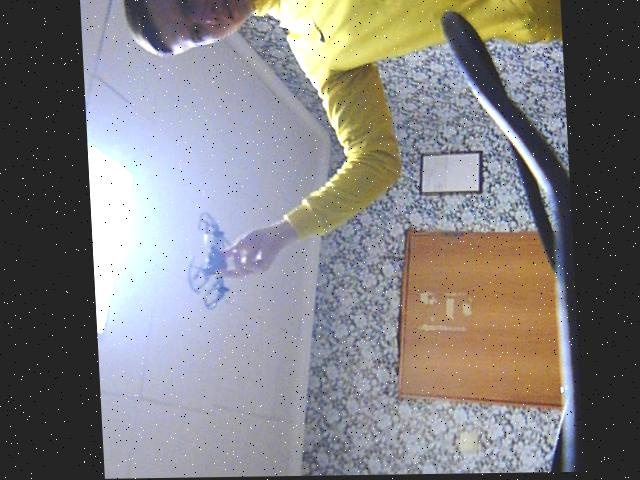drone: (175, 208, 237, 314)
